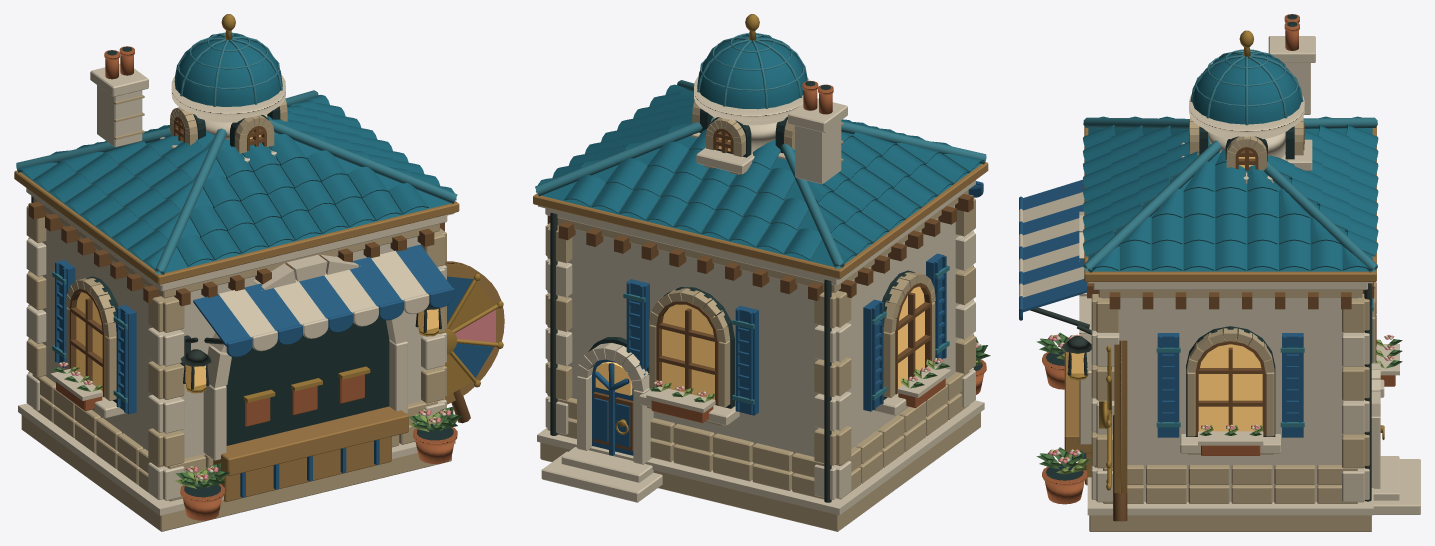
3 views of the same model, side by side, from view 1: azimuth 30°, elevation 25°; view 2: azimuth 150°, elevation 25°; view 3: azimuth 270°, elevation 25° (orthographic). The views are drawn at different scales.
Parts seen in each view (by area): view 1: harbor_chance_wheel_geometry, harbor_chance_wheel_rotor_geometry; view 2: harbor_chance_wheel_geometry; view 3: harbor_chance_wheel_geometry, harbor_chance_wheel_rotor_geometry.
Boxes of the visible parts, bbox=[...] form: harbor_chance_wheel_geometry: bbox=[14, 14, 470, 531]; harbor_chance_wheel_rotor_geometry: bbox=[439, 261, 504, 404]; harbor_chance_wheel_geometry: bbox=[533, 14, 990, 531]; harbor_chance_wheel_geometry: bbox=[1019, 14, 1420, 531]; harbor_chance_wheel_rotor_geometry: bbox=[1099, 340, 1127, 492].
Size of the model in its own units: 1.04 by 1.1 by 0.9351.
